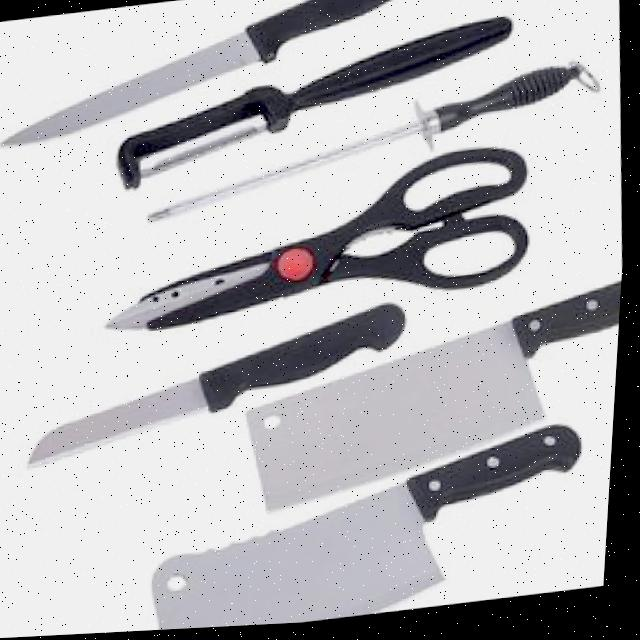knife: (221, 264, 626, 547), (146, 398, 597, 633), (94, 60, 616, 237), (11, 303, 422, 478), (0, 0, 452, 151), (122, 18, 523, 182)
